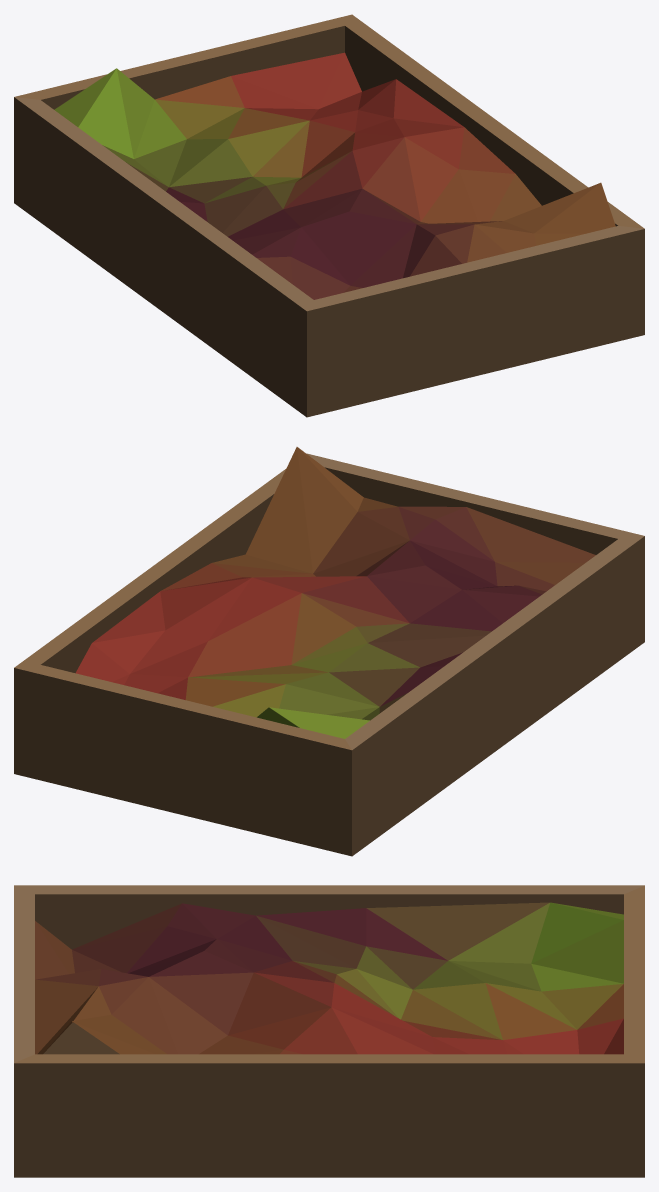
File: Prop_FoodBoxD.fbx
The picture shows the model from 3 angles, top to bottom: view 1: azimuth 30°, elevation 25°; view 2: azimuth 150°, elevation 25°; view 3: azimuth 270°, elevation 25°; orthographic projection. The views are drawn at different scales.
Visible parts, largest first — view 1: Prop_FoodBoxD; view 2: Prop_FoodBoxD; view 3: Prop_FoodBoxD.
Part boxes in pixels (bbox=[...]): Prop_FoodBoxD: bbox=[14, 14, 644, 417]; Prop_FoodBoxD: bbox=[14, 447, 644, 856]; Prop_FoodBoxD: bbox=[14, 885, 644, 1177].
Size of the model in its own units: 50 by 19.35 by 75.
